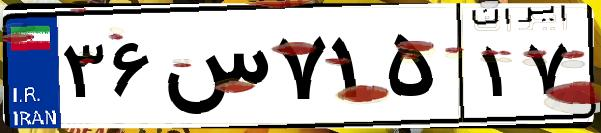1: (330, 28, 385, 110), (475, 38, 525, 113)
3: (57, 26, 110, 100)
5: (385, 28, 445, 110)
6: (110, 28, 158, 98)
7: (270, 28, 330, 110), (525, 38, 570, 115)
س: (158, 20, 270, 120)
